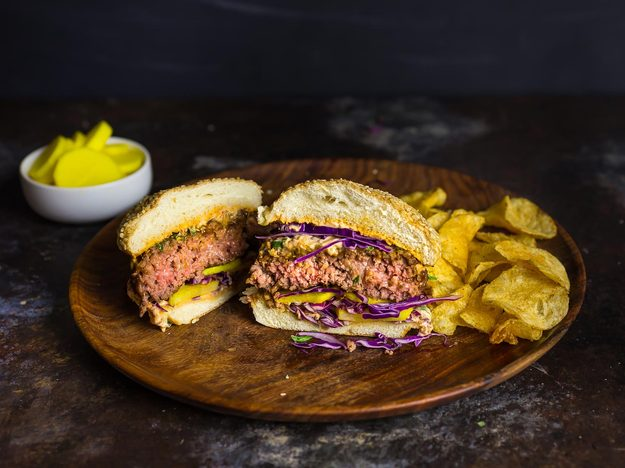hamburger: (261, 171, 439, 352), (118, 155, 274, 355)
